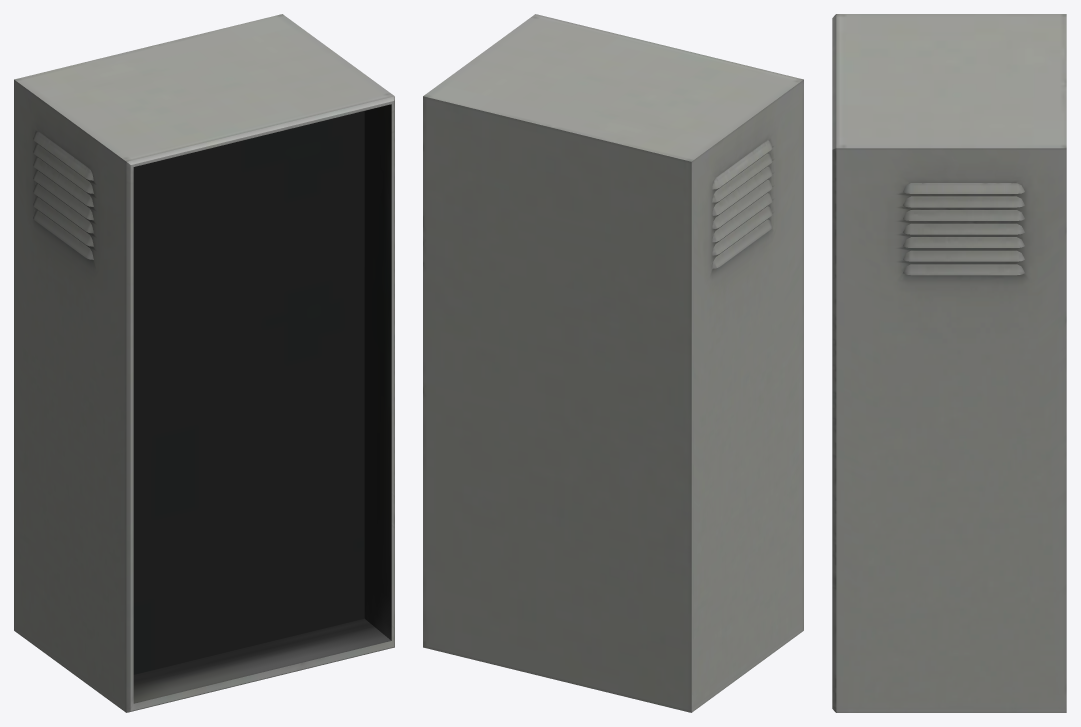
3 views of the same model, side by side, from view 1: azimuth 30°, elevation 25°; view 2: azimuth 150°, elevation 25°; view 3: azimuth 270°, elevation 25° (orthographic). The views are drawn at different scales.
Visible parts, largest first — view 1: body0_model0_lod0_mesh0; view 2: body0_model0_lod0_mesh0; view 3: body0_model0_lod0_mesh0.
Boxes of the visible parts, box(x1,y1,x2,y2) form: body0_model0_lod0_mesh0: box(14, 14, 394, 712); body0_model0_lod0_mesh0: box(423, 14, 803, 712); body0_model0_lod0_mesh0: box(832, 14, 1066, 712).
Size of the model in its own units: 68.98 by 131 by 49.36.
Materials: 1 (1 with a texture image).
